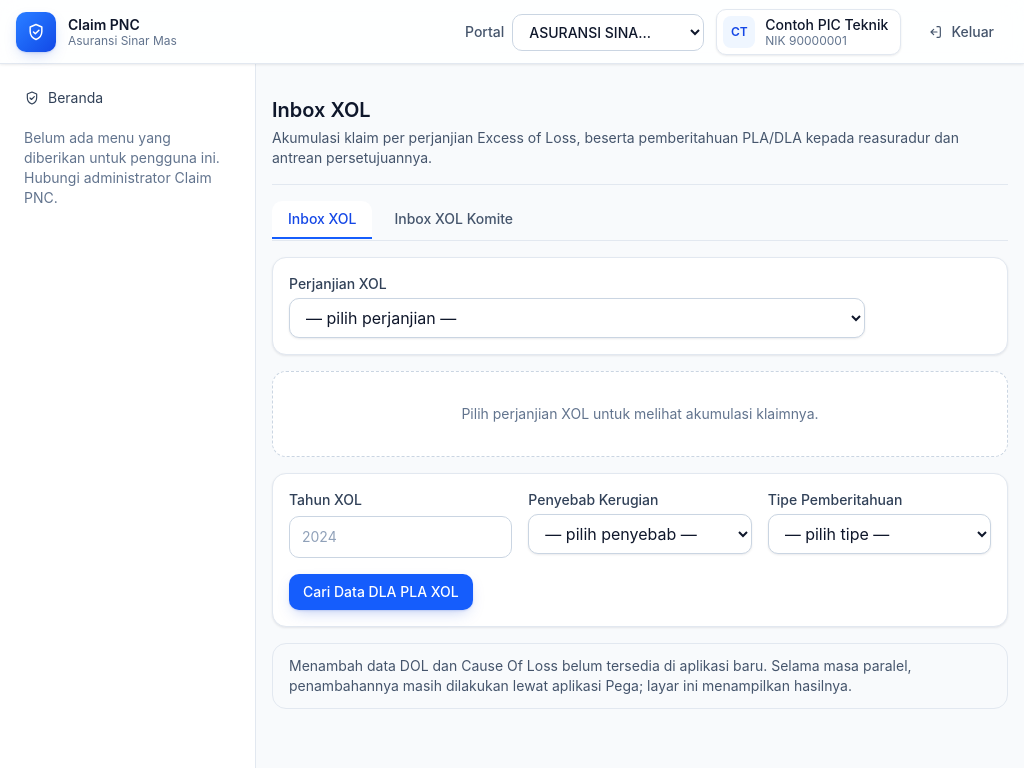
kerangka layar › tidak memuat antrean komite sebelum tabnya dibuka
Click the tab "Inbox XOL Komite".
click(454, 220)  # box [378,201,529,239]
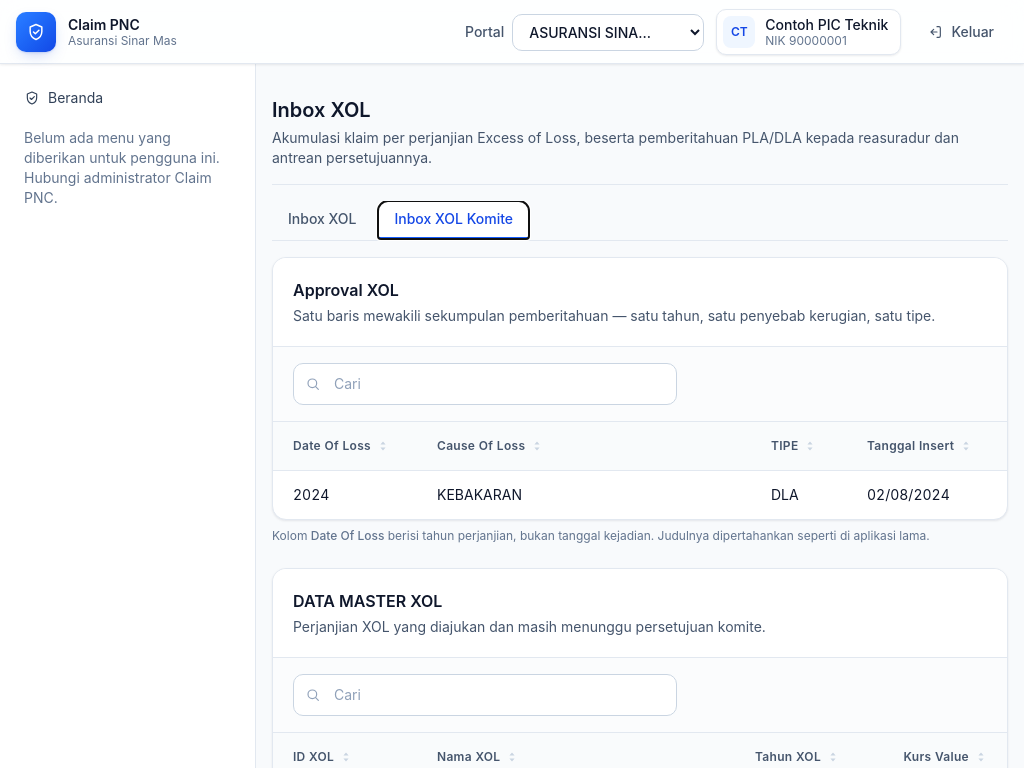
Expected: the heading "Approval XOL" is shown, [293,280,399,300]
